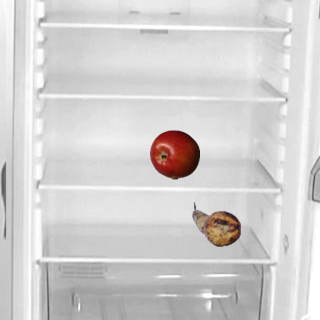Apple Braeburn: (149, 129, 199, 179)
Pear Abate: (191, 199, 241, 249)
